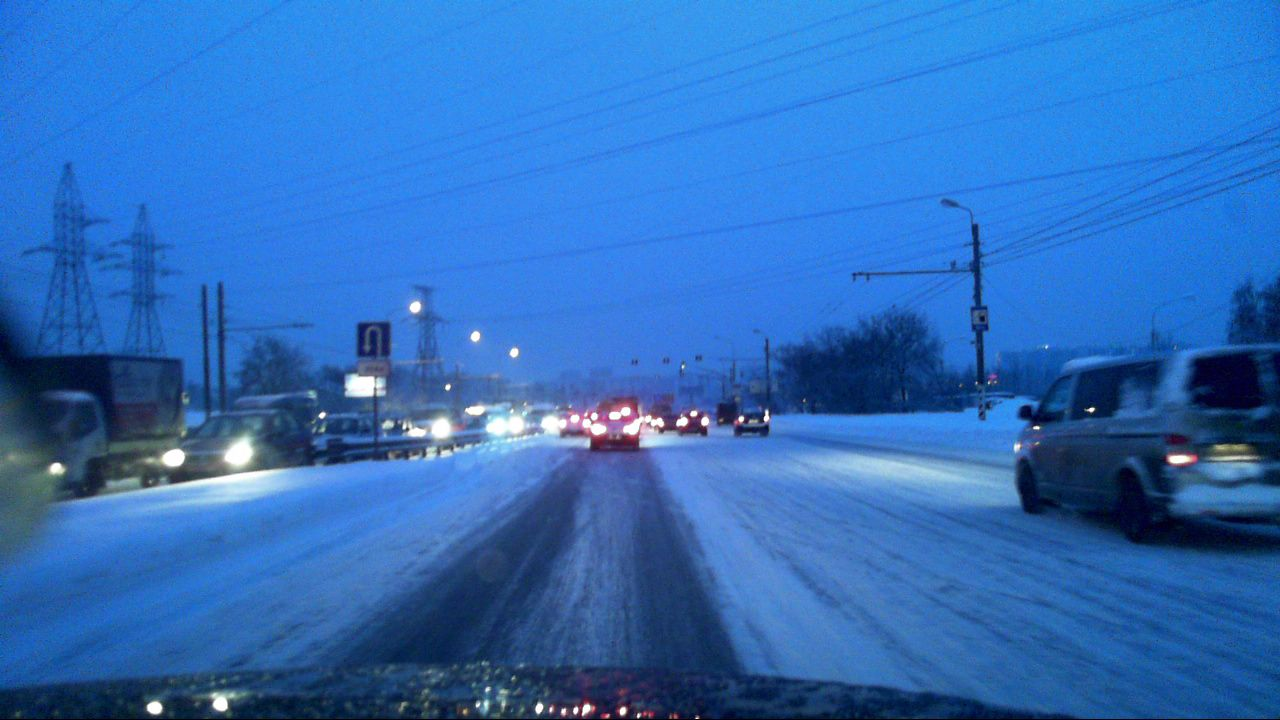U-turn: (358, 323, 389, 357)
